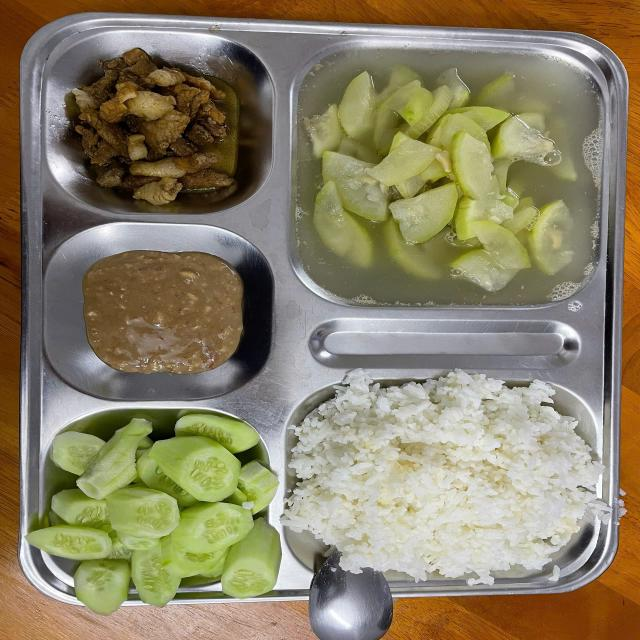canhbau: (303, 44, 600, 314)
dualeo: (42, 412, 276, 608)
salad: (303, 384, 593, 566)
tomramthit: (62, 46, 252, 208)
